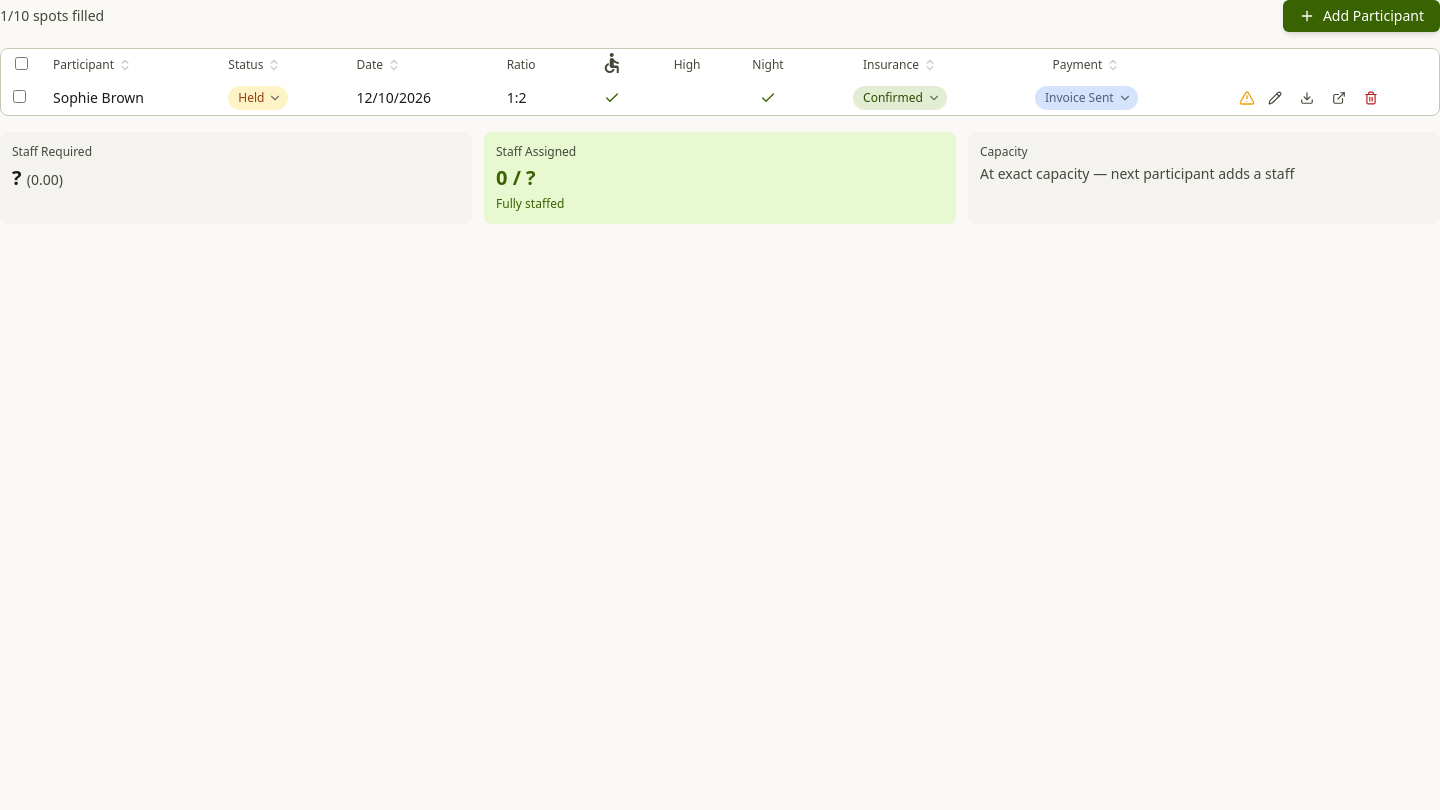
it: BookingsTab — editing a booking keeps the details the list row does not carry › a 404 reads as not found, not as a connection problem
Click the button titled "Edit booking" at {"x": 1275, "y": 98}, box [1263,86,1287,110]
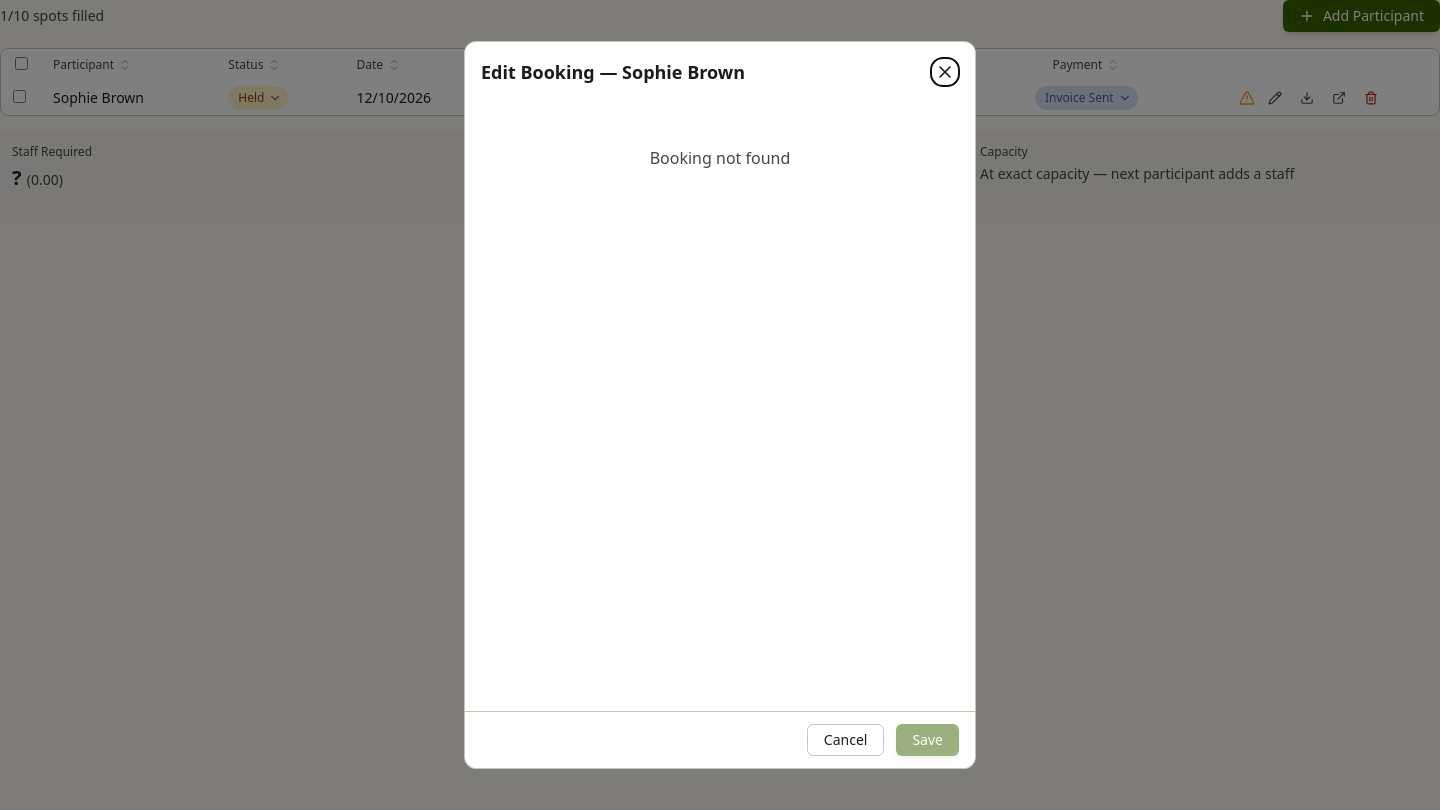
Check: the text "Booking not found" is shown, box [650,146,790,170]
